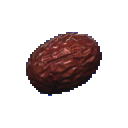gd: (18, 23, 112, 109)
